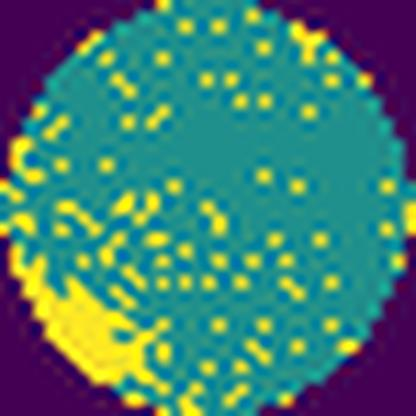Edge-Loc: (9, 238, 174, 415)
